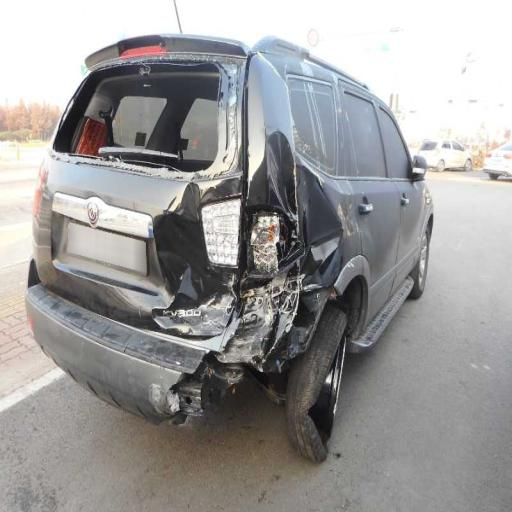broken: (147, 147, 353, 463)
